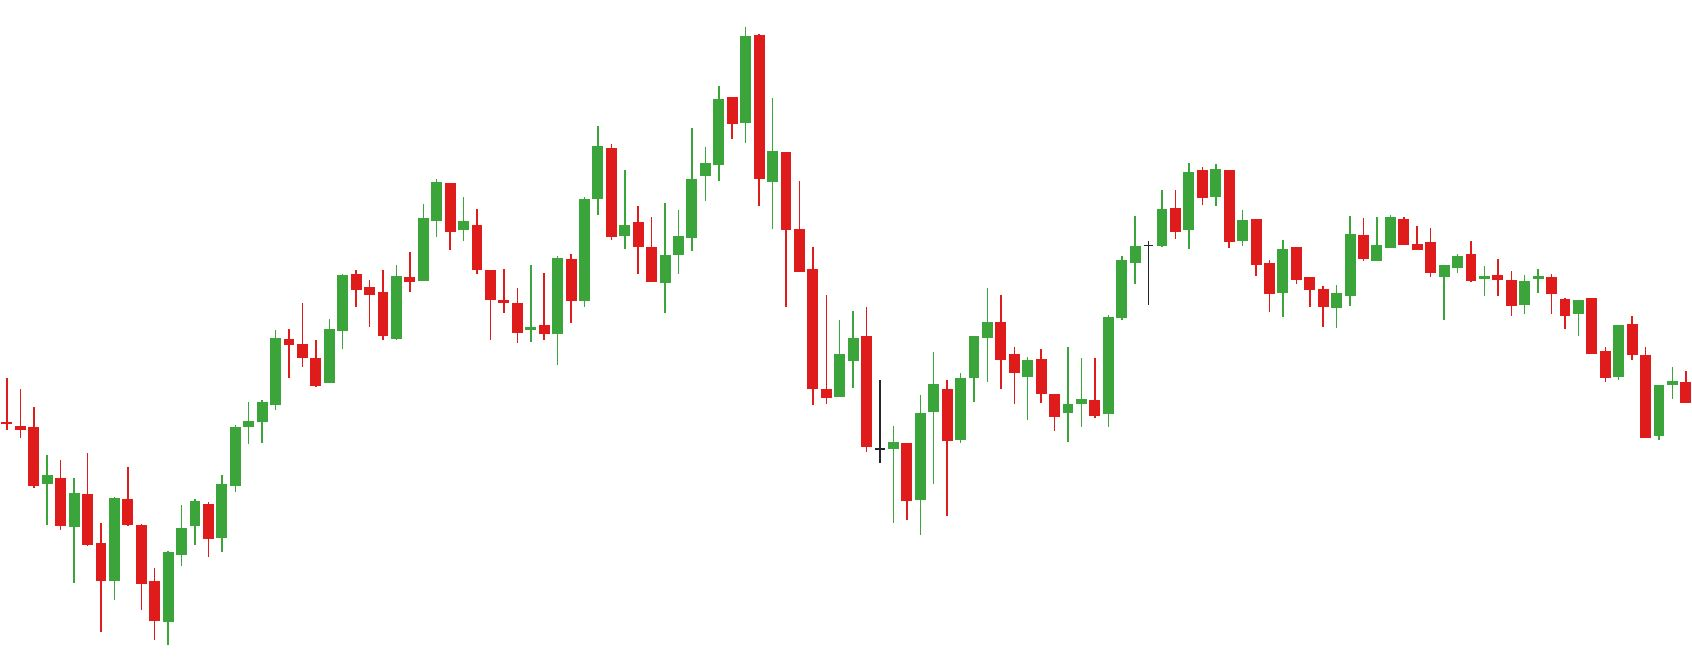buy: (376, 234, 538, 353), (95, 506, 175, 646)
